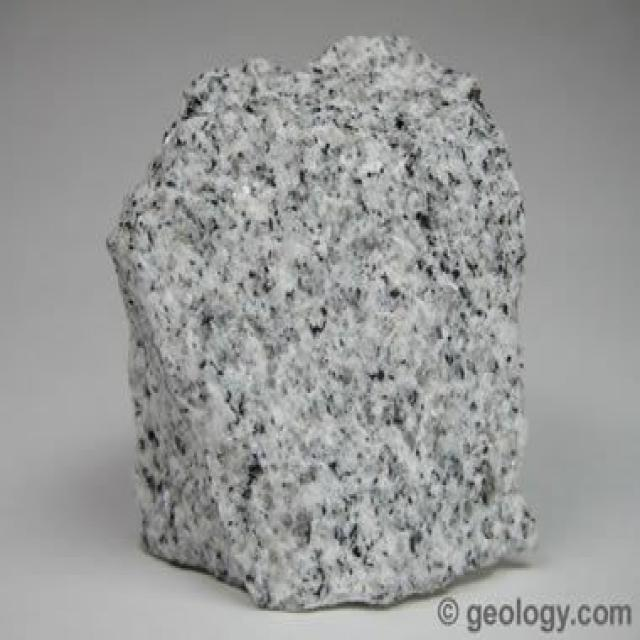Igneous: (88, 34, 539, 604)
